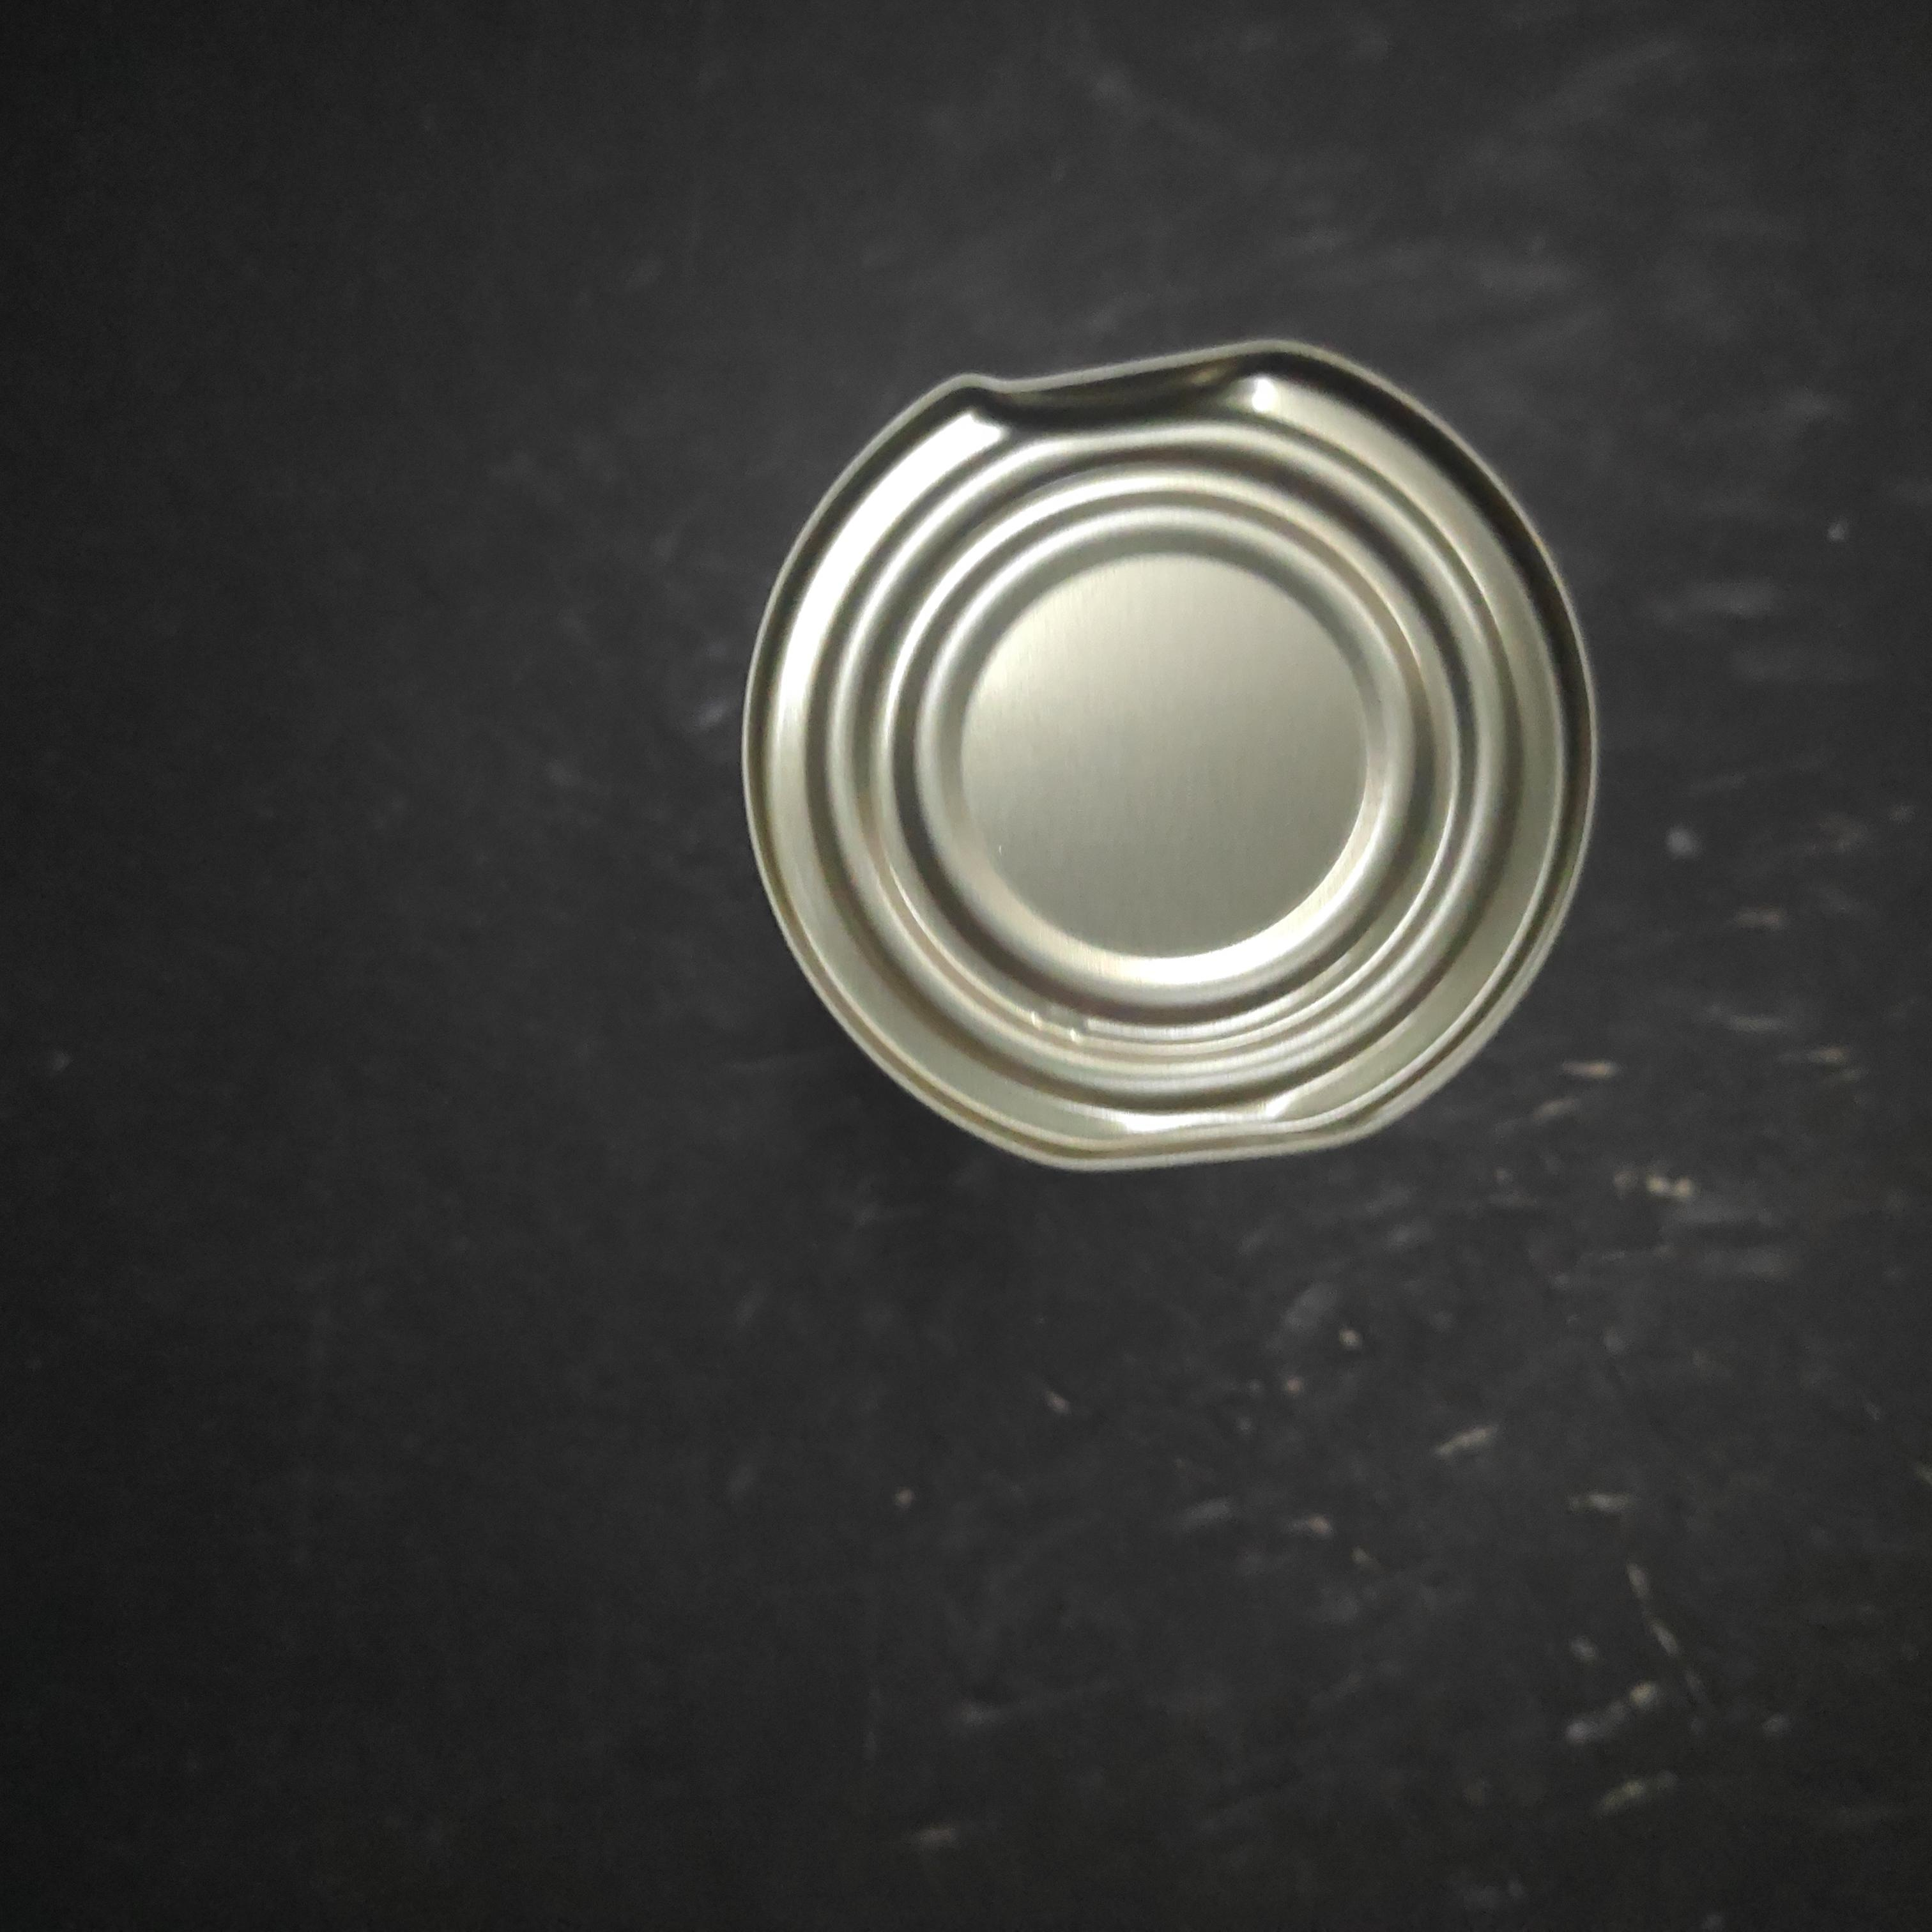Minor Defect: (320, 745, 1203, 1610)
